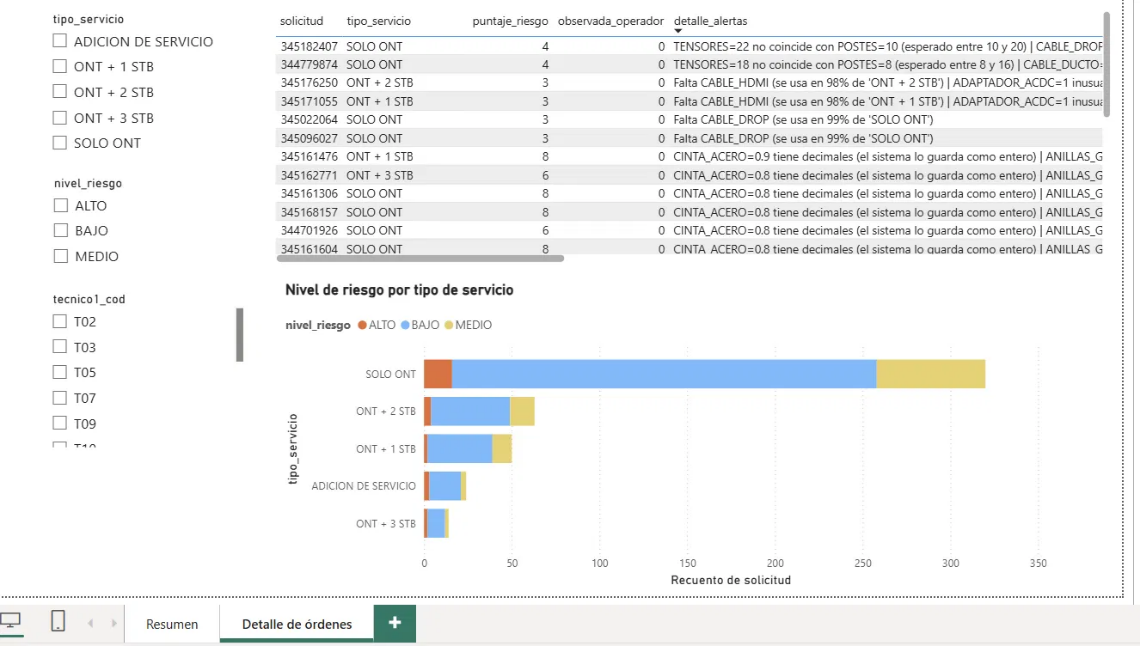

Layout of this report page (visuals, bound fields, positions):
{"tool":"powerbi","page":{"name":"Detalle de órdenes","canvas":[1280,720],"ordinal":1},"visuals":[{"type":"tableEx","fields":{"Values":["Ordenes.solicitud","Ordenes.tipo_servicio","Ordenes.puntaje_riesgo","Ordenes.observada_operador","Ordenes.detalle_alertas"]},"box":[310.6,48.9,961.1,295.9],"z":0},{"type":"actionButton","box":[0,0,100,40],"z":1},{"type":"slicer","fields":{"Values":["Ordenes.tipo_servicio"]},"box":[50.1,48.9,225,187.1],"z":2},{"type":"slicer","fields":{"Values":["Ordenes.nivel_riesgo"]},"box":[51.4,236,223.8,123.5],"z":3},{"type":"slicer","fields":{"Values":["Ordenes.tecnico1_cod"]},"box":[50.1,368.1,234.8,187.1],"z":4},{"type":"barChart","title":"Nivel de riesgo por tipo de servicio","fields":{"Category":["Ordenes.tipo_servicio"],"Series":["Ordenes.nivel_riesgo"],"Y":["CountNonNull(Ordenes.solicitud)"]},"box":[322.8,360.3,876.5,353.4],"z":5}]}

Visuals, with their boxes on the page's 1280x720 design canvas (x1, y1, x2, y2). These are canvas units, not pixel positions in the 1140x646 screenshot, which may show the page scaled, cropped or inside an application window:
tableEx - Ordenes.solicitud x Ordenes.tipo_servicio: <bbox>311, 49, 1272, 345</bbox>
actionButton: <bbox>0, 0, 100, 40</bbox>
slicer - Ordenes.tipo_servicio: <bbox>50, 49, 275, 236</bbox>
slicer - Ordenes.nivel_riesgo: <bbox>51, 236, 275, 360</bbox>
slicer - Ordenes.tecnico1_cod: <bbox>50, 368, 285, 555</bbox>
"Nivel de riesgo por tipo de servicio" barChart: <bbox>323, 360, 1199, 714</bbox>
